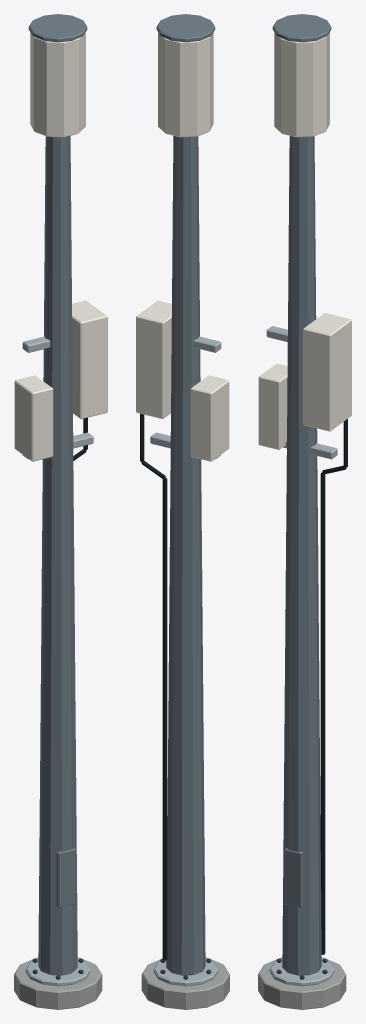
Rendered from b05_small_cell_network_pole.glb.
3 renders of one model, left to right at view 1: azimuth 30°, elevation 25°; view 2: azimuth 150°, elevation 25°; view 3: azimuth 330°, elevation 25°, orthographic.
Parts seen in each view (by area): view 1: b05_small_cell_network_pole; view 2: b05_small_cell_network_pole; view 3: b05_small_cell_network_pole.
Part boxes in pixels (<box>): b05_small_cell_network_pole: <box>14,14,107,1009</box>; b05_small_cell_network_pole: <box>136,14,229,1009</box>; b05_small_cell_network_pole: <box>258,14,351,1009</box>.
Bounding box in the file's own units: 0.61 × 7.26 × 0.6.
